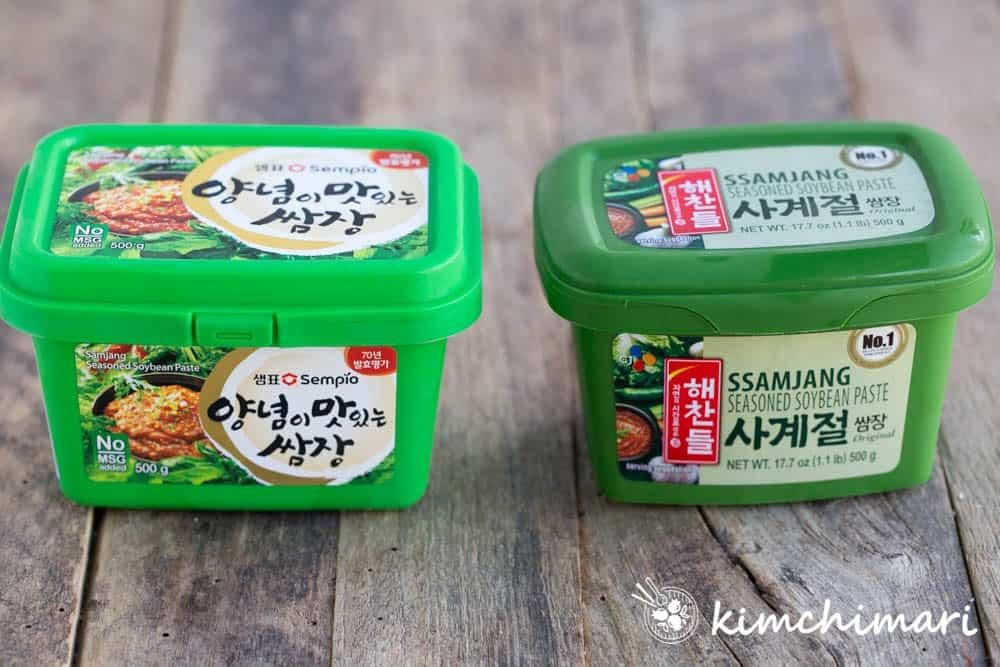plastic: (1, 123, 490, 523), (526, 126, 995, 507)
